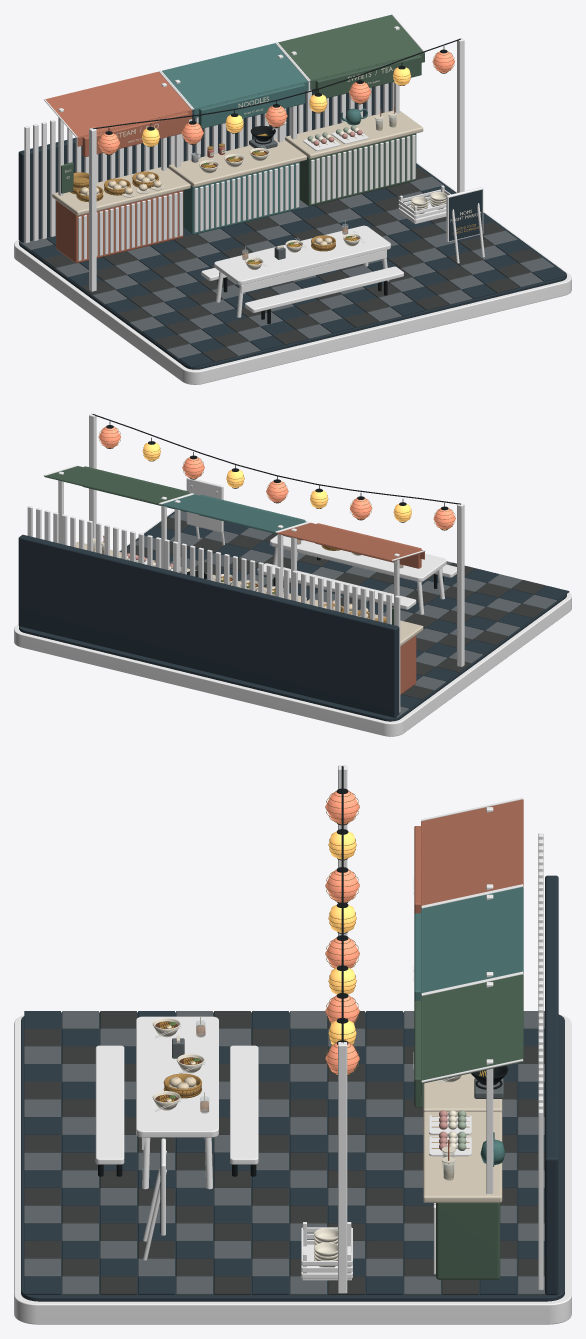
File: night-market.glb
3 renders of one model, top to bottom at view 1: azimuth 30°, elevation 25°; view 2: azimuth 150°, elevation 25°; view 3: azimuth 270°, elevation 25°, orthographic. The views are drawn at different scales.
Visible parts, largest first — view 1: Night market walnut foundation export, Noodle kitchen canvas roof export, Sweet kitchen canvas roof export, Bun kitchen canvas roof export, Low rear market wall export, Communal street dining table rounded top export, Bun kitchen counter body export, Noodle kitchen counter body export, Sweet kitchen counter body export, Slate market paving export, Noodle kitchen stone service ledge export, Sweet kitchen stone service ledge export (+14 smaller); view 2: Low rear market wall export, Night market walnut foundation export, Slate market paving export, Bun kitchen canvas roof export, Sweet kitchen canvas roof export, Noodle kitchen canvas roof export, Communal street dining table rounded top export, Tall festoon support pole export, Night market welcome walnut frame export, Street dining bench.001 export, Bun kitchen counter body export, Tall festoon support pole.001 export (+3 smaller); view 3: Night market walnut foundation export, Slate market paving export, Sweet kitchen canvas roof export, Noodle kitchen canvas roof export, Bun kitchen canvas roof export, Communal street dining table rounded top export, Low rear market wall export, Sweet kitchen counter body export, Sweet kitchen stone service ledge export, Street dining bench export, Street dining bench.001 export, Tall festoon support pole.001 export (+43 smaller).
Part boxes in pixels (bbox=[...]): Night market walnut foundation export: bbox=[14, 162, 571, 384]; Noodle kitchen canvas roof export: bbox=[162, 43, 307, 109]; Sweet kitchen canvas roof export: bbox=[278, 15, 423, 81]; Bun kitchen canvas roof export: bbox=[45, 71, 191, 137]; Low rear market wall export: bbox=[18, 82, 391, 242]; Communal street dining table rounded top export: bbox=[214, 225, 390, 284]; Bun kitchen counter body export: bbox=[56, 190, 183, 263]; Noodle kitchen counter body export: bbox=[183, 162, 299, 234]; Sweet kitchen counter body export: bbox=[300, 133, 416, 206]; Slate market paving export: bbox=[19, 163, 566, 369]; Noodle kitchen stone service ledge export: bbox=[168, 138, 306, 187]; Sweet kitchen stone service ledge export: bbox=[285, 110, 423, 158]; Low rear market wall export: bbox=[18, 534, 399, 717]; Night market walnut foundation export: bbox=[14, 510, 571, 736]; Slate market paving export: bbox=[19, 511, 566, 721]; Bun kitchen canvas roof export: bbox=[277, 523, 424, 561]; Sweet kitchen canvas roof export: bbox=[44, 466, 189, 504]; Noodle kitchen canvas roof export: bbox=[160, 494, 305, 533]; Communal street dining table rounded top export: bbox=[270, 535, 446, 581]; Tall festoon support pole export: bbox=[457, 503, 464, 666]; Night market welcome walnut frame export: bbox=[186, 477, 223, 532]; Street dining bench.001 export: bbox=[257, 563, 416, 609]; Bun kitchen counter body export: bbox=[400, 635, 416, 694]; Tall festoon support pole.001 export: bbox=[89, 413, 96, 545]; Night market walnut foundation export: bbox=[14, 1015, 571, 1324]; Slate market paving export: bbox=[21, 1012, 564, 1301]; Sweet kitchen canvas roof export: bbox=[422, 974, 523, 1083]; Noodle kitchen canvas roof export: bbox=[422, 887, 523, 992]; Bun kitchen canvas roof export: bbox=[422, 799, 523, 905]; Communal street dining table rounded top export: bbox=[136, 1016, 218, 1137]; Low rear market wall export: bbox=[545, 875, 558, 1295]; Sweet kitchen counter body export: bbox=[436, 1203, 500, 1279]; Sweet kitchen stone service ledge export: bbox=[423, 1112, 502, 1202]; Street dining bench export: bbox=[95, 1045, 124, 1164]; Street dining bench.001 export: bbox=[230, 1045, 258, 1164]; Tall festoon support pole.001 export: bbox=[338, 1042, 347, 1293].
Size of the model in its own units: 8.9 by 3.92 by 7.2.
